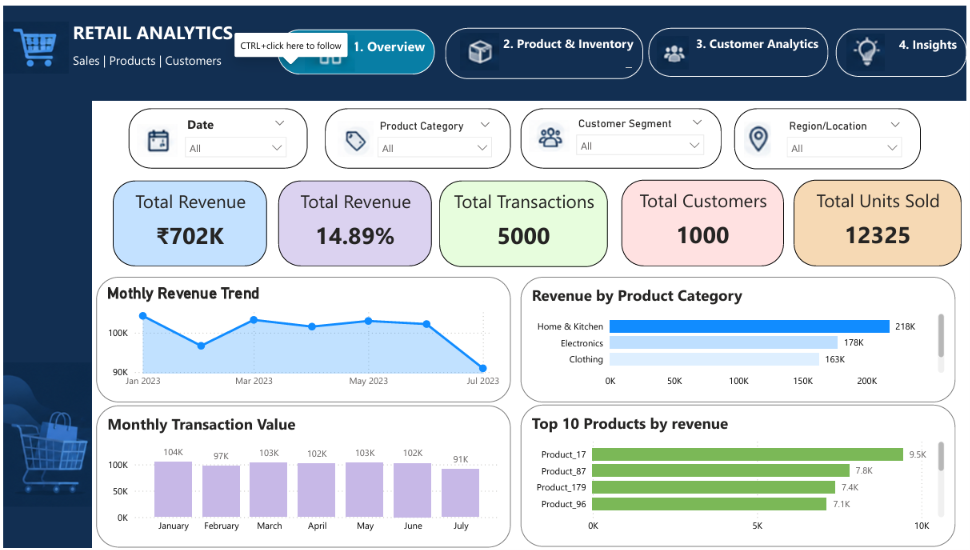

What the dashboard file says about the page in this screenshot:
{"tool":"powerbi","page":{"name":"Overview","canvas":[1280,720],"ordinal":0},"visuals":[{"type":"shape","box":[0,0,1280,125.7],"z":0},{"type":"textbox","box":[87.1,12.9,240,50],"z":1000},{"type":"shape","box":[0,125.7,117.1,594.3],"z":2000},{"type":"textbox","box":[87.1,55.7,211.4,35.7],"z":3000},{"type":"image","box":[0,0,87.1,111.4],"z":4000},{"type":"textbox","title":"1. Overview","box":[341.7,30.2,208.6,60.4],"z":5000},{"type":"image","box":[362.3,34.3,64.5,49.4],"z":6000},{"type":"textbox","title":"2. Product & Inventory","box":[572.2,27.4,262.1,68.6],"z":7000},{"type":"image","box":[587.3,32.9,52.1,53.5],"z":8000},{"type":"textbox","title":"3. Customer Analytics","box":[852.1,28.8,237.4,65.9],"z":9000},{"type":"image","box":[864.5,37,45.3,43.9],"z":10000},{"type":"textbox","title":"4. Insights","box":[1099.1,28.8,156.4,64.5],"z":11000},{"type":"image","box":[1106,38.4,56.3,48],"z":12000},{"type":"slicer","fields":{"Values":["clean_sales.TransactionDate"]},"box":[231.4,141.4,154.3,68.6],"z":13000},{"type":"textbox","box":[165.7,135.7,238.6,80],"z":14000},{"type":"image","box":[177.1,154.3,54.3,48.6],"z":15000},{"type":"textbox","box":[427.1,135.7,247.1,80],"z":16000},{"type":"slicer","fields":{"Values":["clean_products.Category"]},"box":[487.1,145.7,171.4,64.3],"z":17000},{"type":"image","box":[437.1,152.9,60,47.1],"z":18000},{"type":"textbox","box":[687.1,135.7,267.1,80],"z":19000},{"type":"slicer","fields":{"Values":["rfm_customers.Segment"]},"box":[751.4,142.9,190,65.7],"z":20000},{"type":"image","box":[698.6,145.7,54.3,54.3],"z":21000},{"type":"textbox","box":[971.4,135.7,247.1,81.4],"z":22000},{"type":"slicer","fields":{"Values":["clean_customers.Location"]},"box":[1031.4,145.7,172.9,62.9],"z":23000},{"type":"image","box":[971.4,154.3,61.4,47.1],"z":24000},{"type":"card","title":"Total Revenue","fields":{"Values":["clean_customers.Total Revenue"]},"box":[145.5,231.9,204.5,113.9],"z":25000},{"type":"card","title":"Total Transactions","fields":{"Values":["Measures (2).Total Transactions"]},"box":[579.1,231.9,223.7,115.3],"z":26000},{"type":"lineChart","title":"Mothly Revenue Trend","fields":{"Y":["Sum(clean_sales.Revenue)"],"Category":["clean_sales.TransactionDate.Variation.Date Hierarchy.Year","clean_sales.TransactionDate.Variation.Date Hierarchy.Month"]},"box":[123.5,359.5,550.3,167.4],"z":27000},{"type":"clusteredBarChart","title":"Revenue by Product Category","fields":{"Category":["clean_products.Category"],"Y":["Sum(clean_sales.Revenue)"]},"box":[687.5,359.5,577.7,167.4],"z":28000},{"type":"clusteredBarChart","title":"Top 10 Products by revenue","fields":{"Category":["clean_products.ProductName"],"Y":["Sum(clean_sales.Revenue)"]},"box":[687.5,529.7,577.7,189.4],"z":29000},{"type":"columnChart","title":"Monthly Transaction Value","fields":{"Category":["clean_sales.TransactionDate.Variation.Date Hierarchy.Month"],"Y":["Sum(clean_sales.Revenue)"]},"box":[123.5,531,550.3,189.4],"z":30000},{"type":"image","box":[0,420,117.1,300],"z":31000},{"type":"card","title":"Total Customers","fields":{"Values":["CountNonNull(clean_customers.CustomerID)"]},"box":[820.6,230.5,216.8,115.3],"z":32000},{"type":"card","title":"Total Units Sold","fields":{"Values":["Sum(clean_sales.QuantityPurchased)"]},"box":[1049.7,230.5,223.7,115.3],"z":33000},{"type":"shape","box":[328,22,236,79.6],"z":34000},{"type":"shape","box":[568.1,23.3,270.3,79.6],"z":35000},{"type":"shape","box":[841.2,23.3,253.9,79.6],"z":36000},{"type":"card","title":"Total Revenue","fields":{"Values":["Measures (2).Revenue Growth %"]},"box":[365,231.9,204.5,113.9],"z":37000}]}

Visuals, with their boxes in screenshot pixels (x1, y1, x2, y2), scaled from the page's 1280x720 canvas onto the 970x550 screenshot:
shape: pyautogui.locateOnScreen(0, 0, 969, 96)
textbox: pyautogui.locateOnScreen(66, 10, 248, 48)
shape: pyautogui.locateOnScreen(0, 96, 89, 549)
textbox: pyautogui.locateOnScreen(66, 43, 226, 70)
image: pyautogui.locateOnScreen(0, 0, 66, 85)
"1. Overview" textbox: pyautogui.locateOnScreen(259, 23, 417, 69)
image: pyautogui.locateOnScreen(275, 26, 323, 64)
"2. Product & Inventory" textbox: pyautogui.locateOnScreen(434, 21, 632, 73)
image: pyautogui.locateOnScreen(445, 25, 485, 66)
"3. Customer Analytics" textbox: pyautogui.locateOnScreen(646, 22, 826, 72)
image: pyautogui.locateOnScreen(655, 28, 689, 62)
"4. Insights" textbox: pyautogui.locateOnScreen(833, 22, 951, 71)
image: pyautogui.locateOnScreen(838, 29, 881, 66)
slicer - clean_sales.TransactionDate: pyautogui.locateOnScreen(175, 108, 292, 160)
textbox: pyautogui.locateOnScreen(126, 104, 306, 165)
image: pyautogui.locateOnScreen(134, 118, 175, 155)
textbox: pyautogui.locateOnScreen(324, 104, 511, 165)
slicer - clean_products.Category: pyautogui.locateOnScreen(369, 111, 499, 160)
image: pyautogui.locateOnScreen(331, 117, 377, 153)
textbox: pyautogui.locateOnScreen(521, 104, 723, 165)
slicer - rfm_customers.Segment: pyautogui.locateOnScreen(569, 109, 713, 159)
image: pyautogui.locateOnScreen(529, 111, 571, 153)
textbox: pyautogui.locateOnScreen(736, 104, 923, 166)
slicer - clean_customers.Location: pyautogui.locateOnScreen(782, 111, 913, 159)
image: pyautogui.locateOnScreen(736, 118, 783, 154)
"Total Revenue" card: pyautogui.locateOnScreen(110, 177, 265, 264)
"Total Transactions" card: pyautogui.locateOnScreen(439, 177, 608, 265)
"Mothly Revenue Trend" lineChart: pyautogui.locateOnScreen(94, 275, 511, 402)
"Revenue by Product Category" clusteredBarChart: pyautogui.locateOnScreen(521, 275, 959, 402)
"Top 10 Products by revenue" clusteredBarChart: pyautogui.locateOnScreen(521, 405, 959, 549)
"Monthly Transaction Value" columnChart: pyautogui.locateOnScreen(94, 406, 511, 549)
image: pyautogui.locateOnScreen(0, 321, 89, 549)
"Total Customers" card: pyautogui.locateOnScreen(622, 176, 786, 264)
"Total Units Sold" card: pyautogui.locateOnScreen(795, 176, 965, 264)
shape: pyautogui.locateOnScreen(249, 17, 427, 78)
shape: pyautogui.locateOnScreen(431, 18, 635, 79)
shape: pyautogui.locateOnScreen(637, 18, 830, 79)
"Total Revenue" card: pyautogui.locateOnScreen(277, 177, 432, 264)
